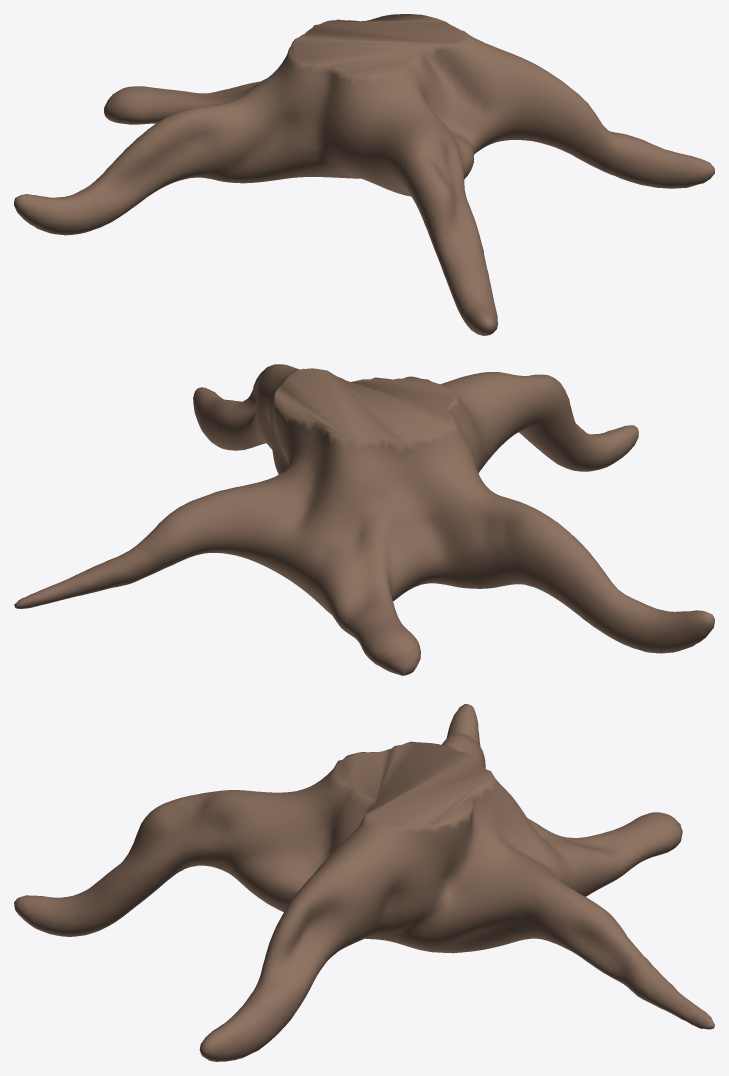
The model's file is treeFirstStage.glb.
3 renders of one model, top to bottom at view 1: azimuth 30°, elevation 25°; view 2: azimuth 150°, elevation 25°; view 3: azimuth 270°, elevation 25°, orthographic. The views are drawn at different scales.
Visible parts, largest first — view 1: Cube.008; view 2: Cube.008; view 3: Cube.008.
Part boxes in pixels (x1=…): Cube.008: x1=14, y1=14, x2=714, y2=335; Cube.008: x1=14, y1=364, x2=714, y2=675; Cube.008: x1=14, y1=704, x2=714, y2=1061.
Bounding box in the file's own units: 7.68 × 2.02 × 7.15.
